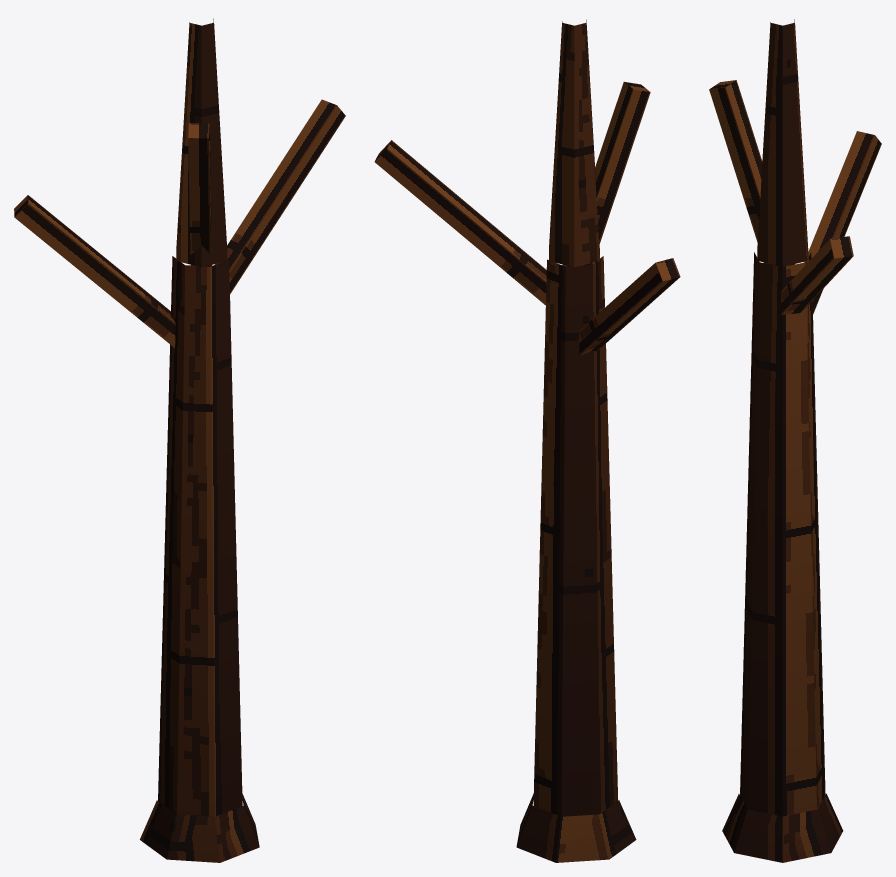
File: oak_1_trunk.glb
3 views of the same model, side by side, from view 1: azimuth 30°, elevation 25°; view 2: azimuth 150°, elevation 25°; view 3: azimuth 270°, elevation 25° (orthographic).
Visible parts, largest first — view 1: oak_1_trunk; view 2: oak_1_trunk; view 3: oak_1_trunk.
Part boxes in pixels (<box>): oak_1_trunk: <box>14,18,345,862</box>; oak_1_trunk: <box>374,19,680,862</box>; oak_1_trunk: <box>709,19,881,862</box>.
Bounding box in the file's own units: 2.11 × 5.22 × 1.
1 material, 1 textured.
